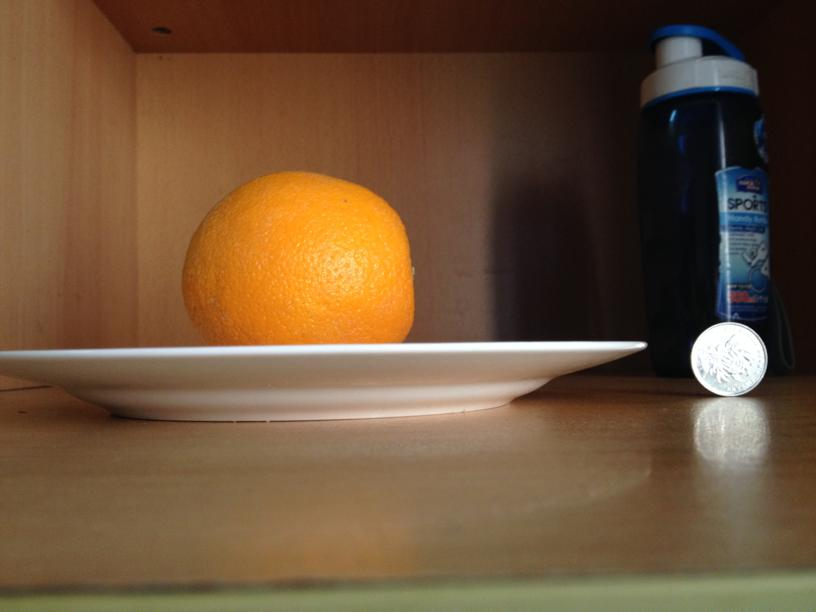coin: (688, 322, 767, 397)
orange: (179, 173, 416, 340)
